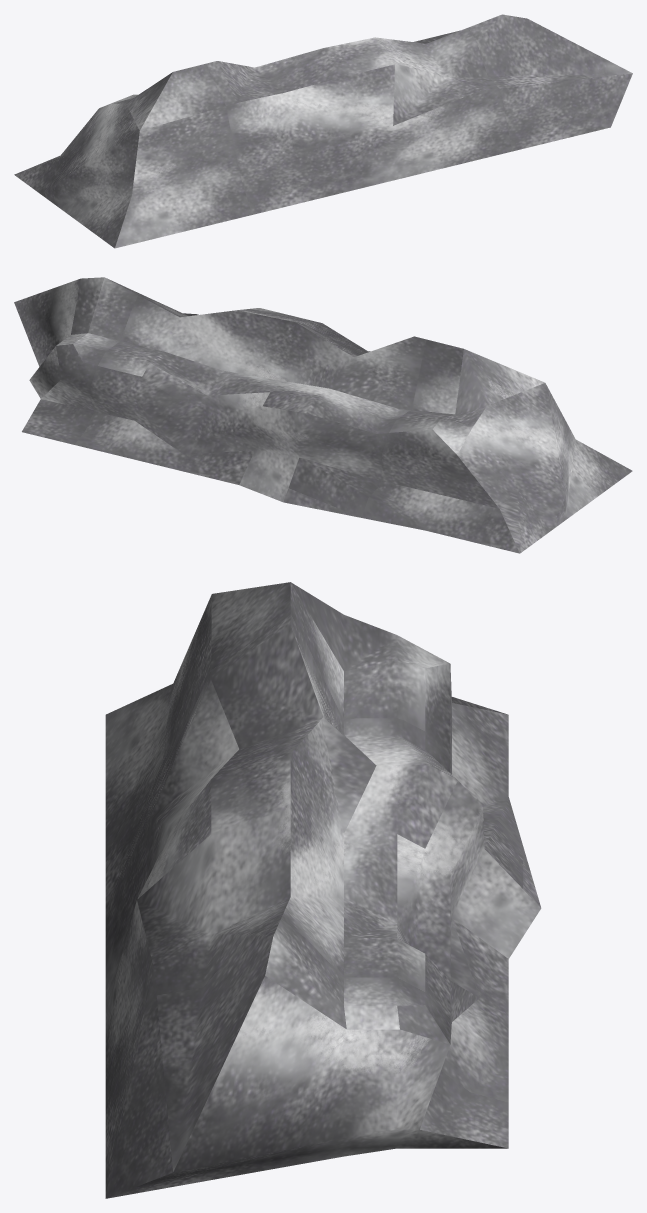
Rendered from MountainC1.FBX.
The picture shows the model from 3 angles, top to bottom: view 1: azimuth 30°, elevation 25°; view 2: azimuth 150°, elevation 25°; view 3: azimuth 270°, elevation 25°; orthographic projection. The views are drawn at different scales.
Visible parts, largest first — view 1: MountainC1; view 2: MountainC1; view 3: MountainC1.
Boxes of the visible parts, x1,y1,x2,y2 form: MountainC1: (14,14,632,248); MountainC1: (14,277,632,553); MountainC1: (105,582,541,1198).
Size of the model in its own units: 358 by 75.18 by 126.
Materials: 1 (1 with a texture image).
